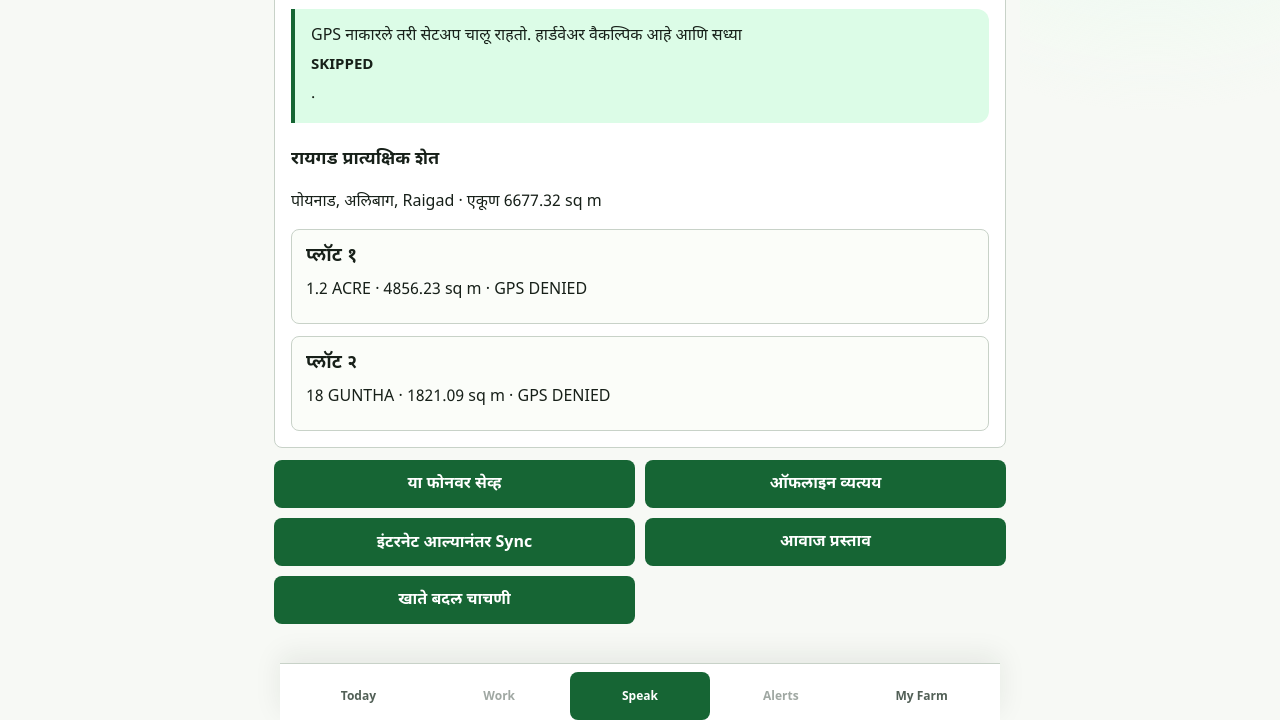
Scenario: Farmer setup screen › locks local recovery on account switch when setup has unsynced private work
The image size is (1280, 720).
(page scrolled)
Click the button "खाते बदल चाचणी": (454, 600) x1=274 y1=576 x2=635 y2=624
(page scrolled)
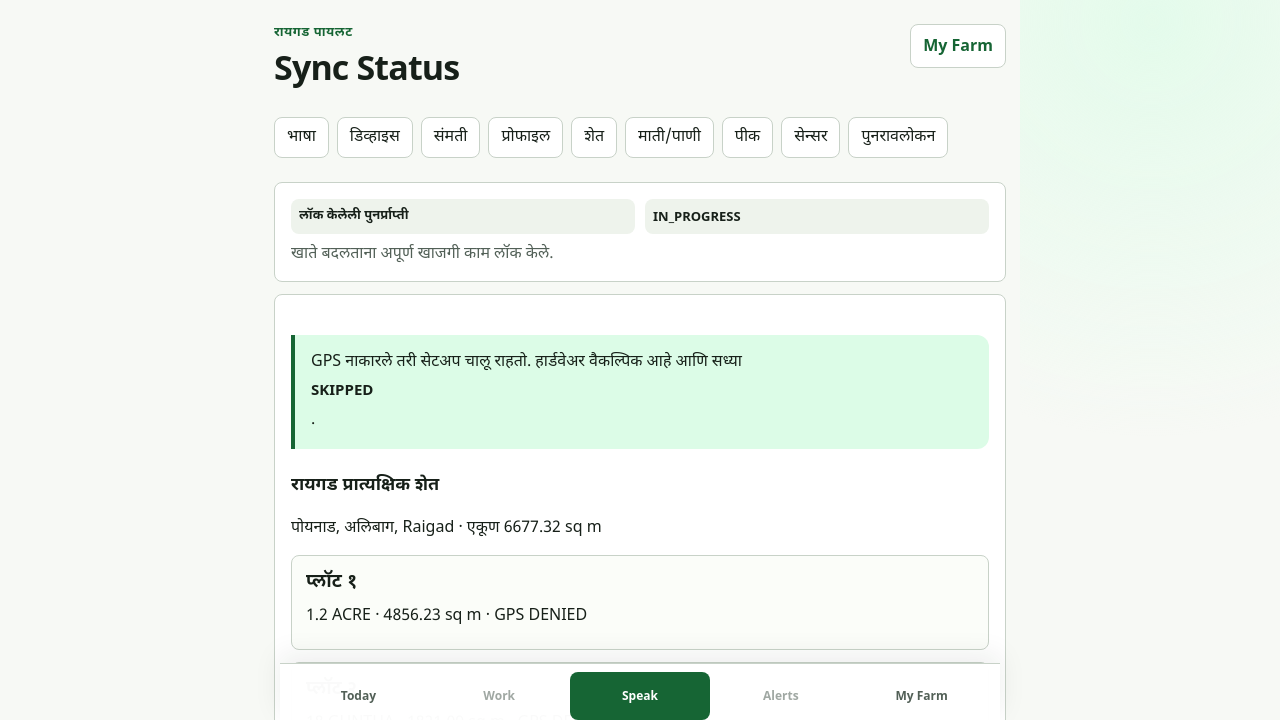
Result: the text "लॉक केलेली पुनर्प्राप्ती" is shown at x1=291 y1=198 x2=635 y2=234
